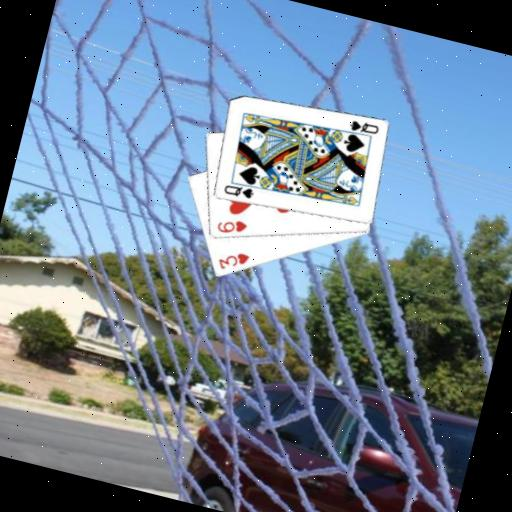3H: (213, 245, 252, 277)
6H: (213, 212, 250, 240)
QS: (220, 179, 257, 202), (346, 115, 382, 138)
